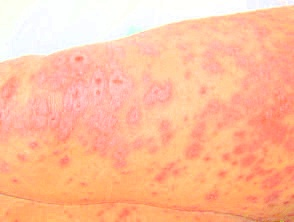SJS-TEN: (0, 3, 293, 221)
